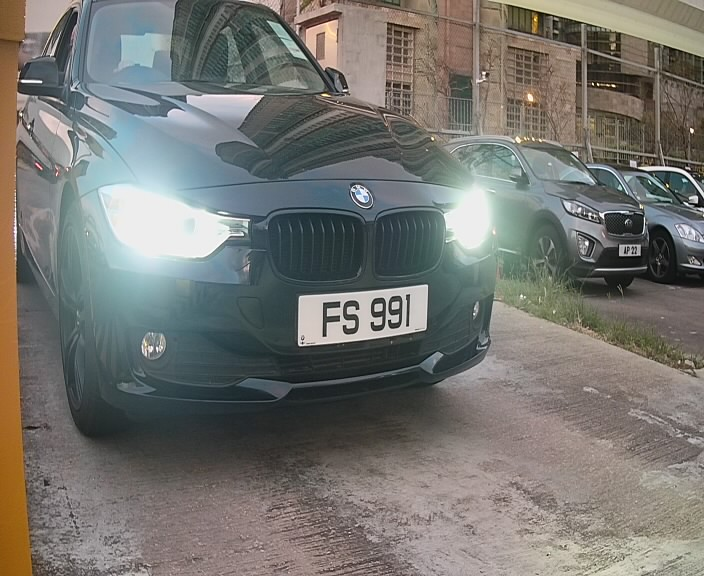Car: (40, 2, 529, 465)
License Plate: (287, 281, 439, 354)
